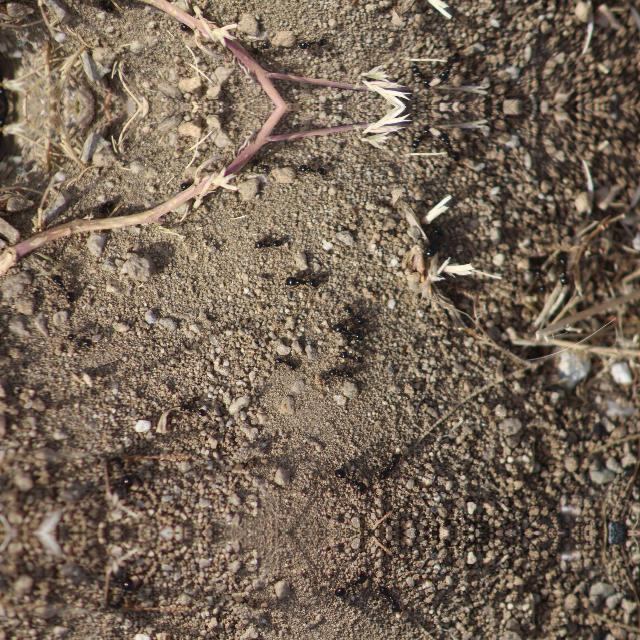Messor: (44, 274, 86, 306), (325, 465, 369, 493), (325, 572, 369, 600), (246, 230, 288, 254), (240, 152, 274, 180), (240, 32, 274, 60), (284, 270, 318, 296), (412, 231, 446, 257), (377, 451, 407, 479), (377, 586, 407, 614), (110, 576, 132, 614), (60, 326, 94, 350), (110, 452, 132, 488), (551, 252, 575, 282), (531, 265, 551, 297), (301, 156, 327, 180), (301, 33, 327, 56), (179, 179, 203, 203), (175, 402, 211, 418), (179, 9, 203, 33), (440, 131, 460, 159), (440, 53, 460, 81), (412, 119, 428, 147), (412, 65, 428, 93)
